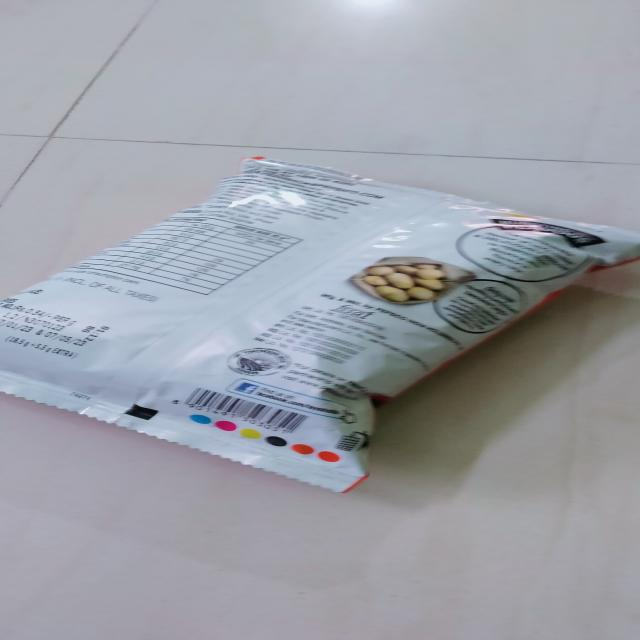lays: (0, 155, 640, 493)
